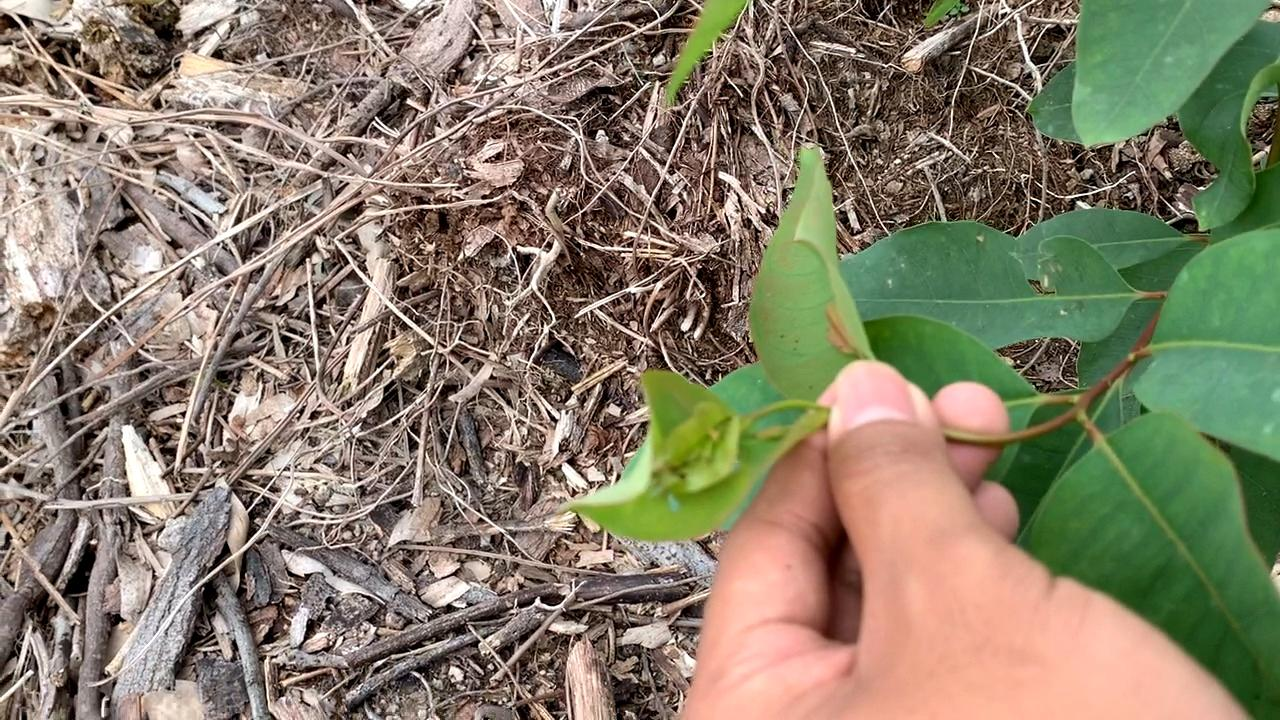Leaf Roller - Leaf: (550, 366, 792, 571)
